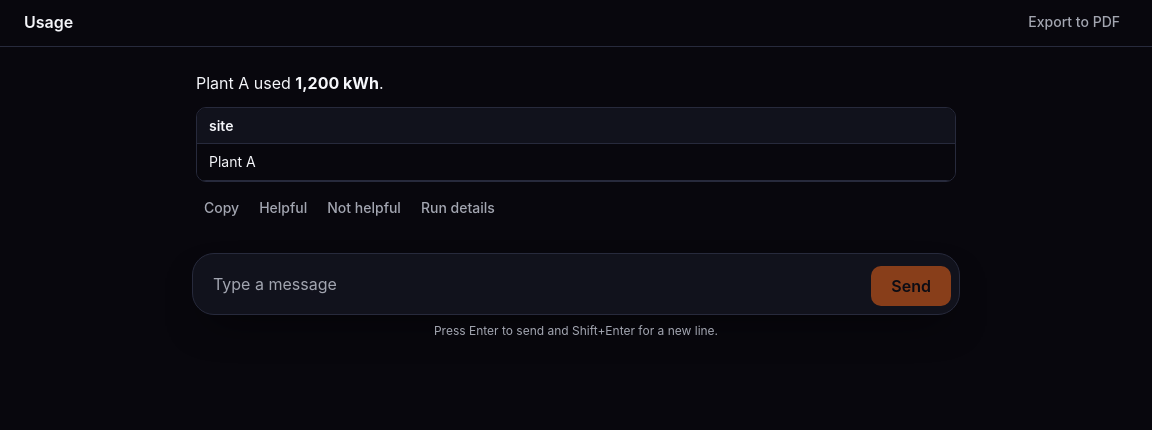
Scenario: message actions › [U-13] copy puts the answer on the clipboard; feedback rates then comments through the API
Click the button "Copy" at (222, 208), box [196, 194, 247, 221]
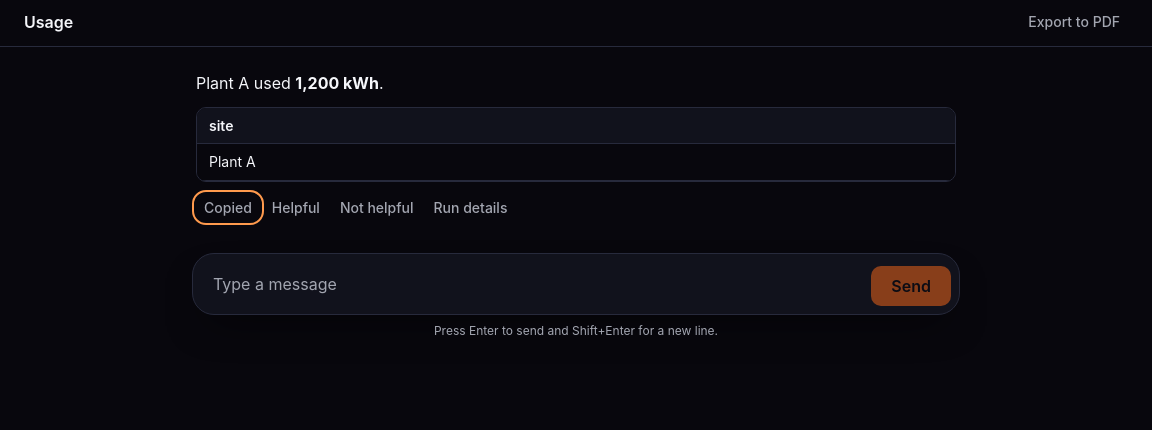
Result: the button "Copied" is shown at [196, 194, 260, 221]
Click the button "Not helpful" at (377, 208), box [332, 194, 422, 221]
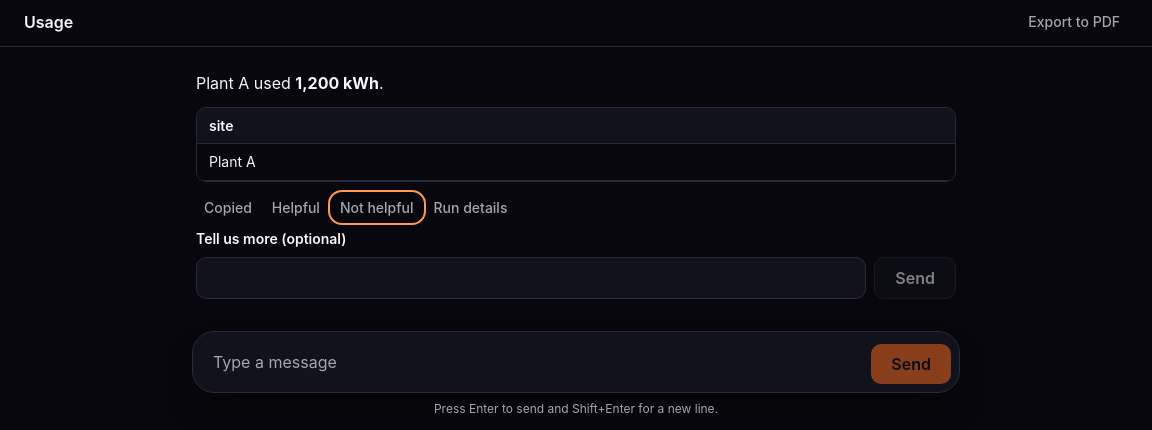
Type "Wrong site" into the field labelled "Tell us more (optional)" at (531, 278), box [196, 257, 866, 299]
Then press Enter
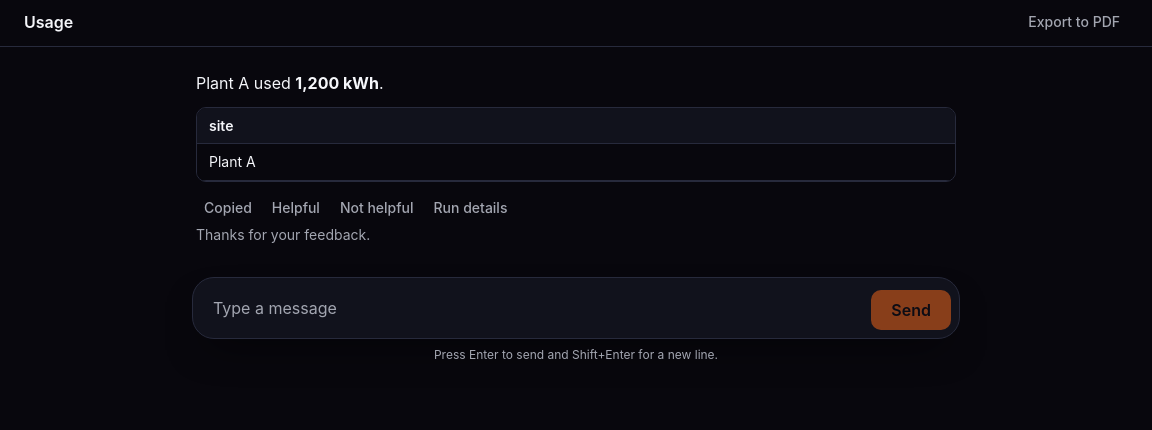
Result: the text "Thanks for your feedback." is shown at [196, 226, 370, 243]
